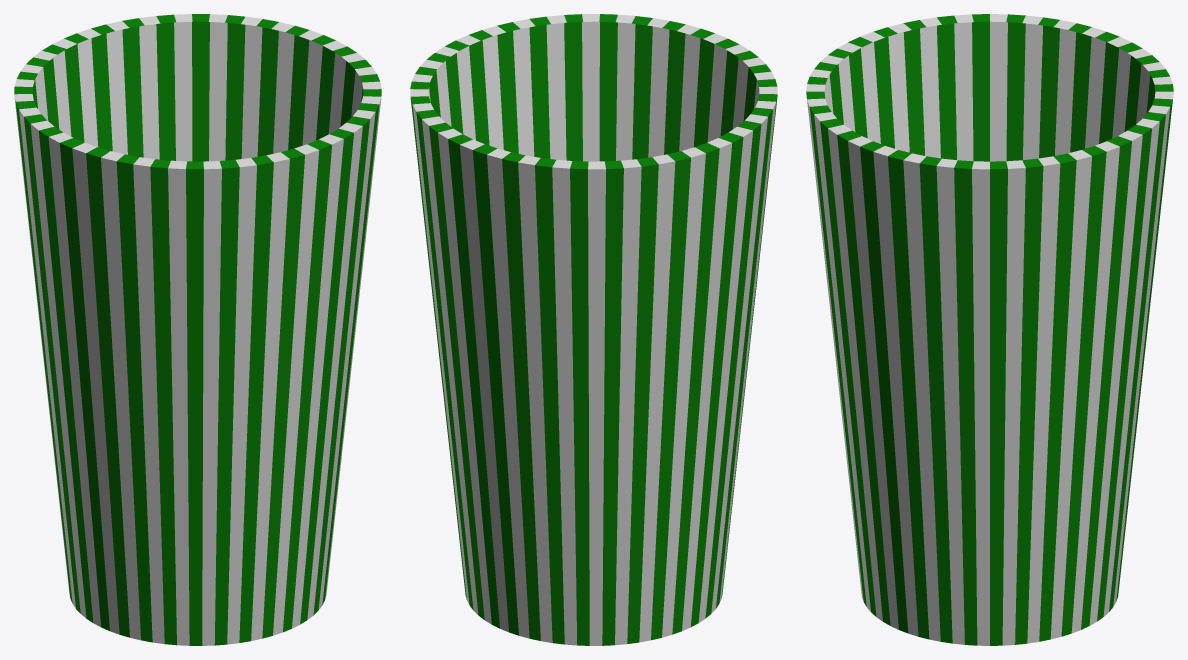
The model's file is Cup Green.glb.
3 views of the same model, side by side, from view 1: azimuth 30°, elevation 25°; view 2: azimuth 150°, elevation 25°; view 3: azimuth 270°, elevation 25° (orthographic).
Visible parts, largest first — view 1: Cone; view 2: Cone; view 3: Cone.
Boxes of the visible parts, box(x1,y1,x2,y2) form: Cone: box(14, 14, 381, 645); Cone: box(410, 14, 777, 645); Cone: box(806, 14, 1173, 645).
Size of the model in its own units: 0.2 by 0.3 by 0.2.
